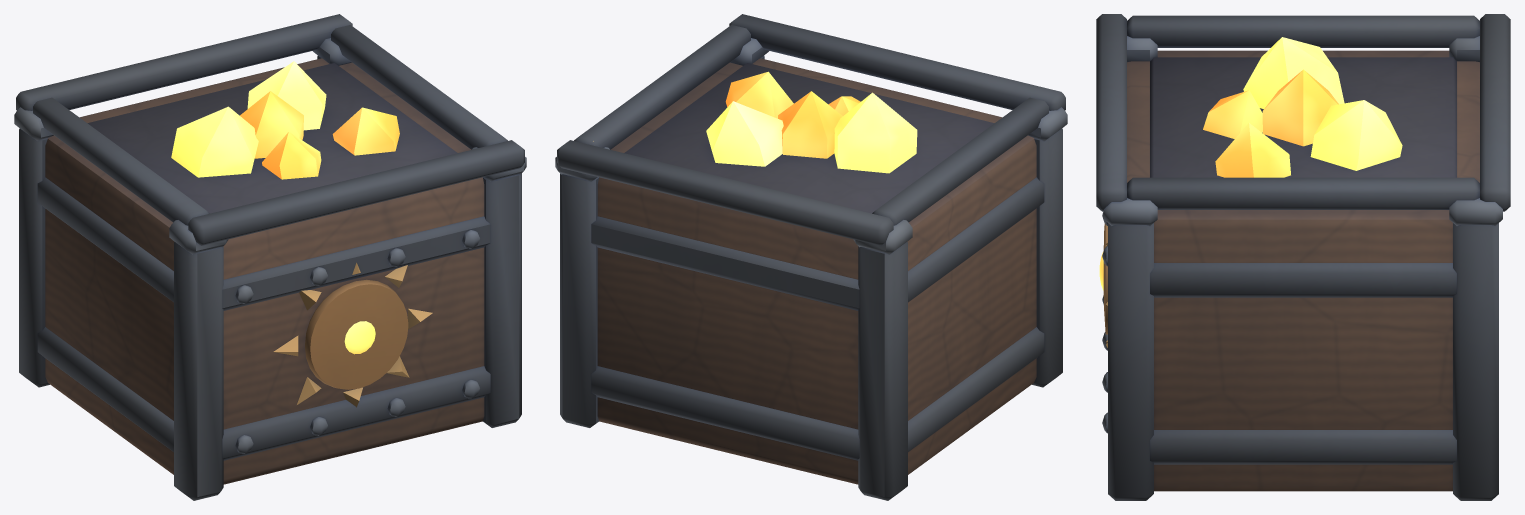
Rendered from EF_P08_OreCrate.fbx.
The picture shows the model from 3 angles, left to right: view 1: azimuth 30°, elevation 25°; view 2: azimuth 150°, elevation 25°; view 3: azimuth 270°, elevation 25°; orthographic projection. The views are drawn at different scales.
Parts seen in each view (by area): view 1: Crate; view 2: Crate; view 3: Crate.
Boxes of the visible parts, bbox=[...] form: Crate: bbox=[14, 14, 526, 500]; Crate: bbox=[555, 14, 1067, 500]; Crate: bbox=[1096, 14, 1510, 500].
Bounding box in the file's own units: 1.14 × 1 × 1.08.
